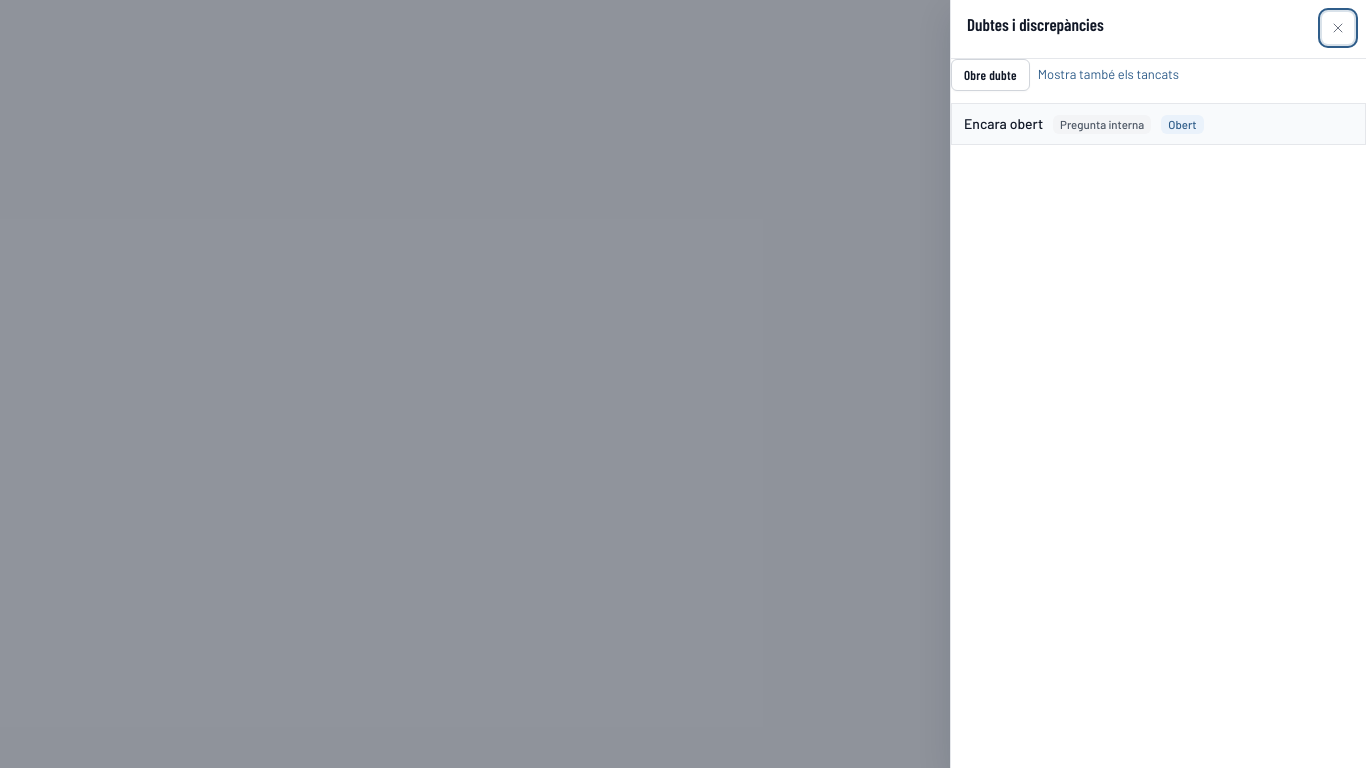
Test: per defecte només ensenya els oberts
Expected: the button "Encara obert" is shown, [964,114,1043,134]
Expected: the text "Ja resolt" is not shown
Click the button "Mostra també els tancats".
click(1108, 75)  # box [1038,65,1179,85]
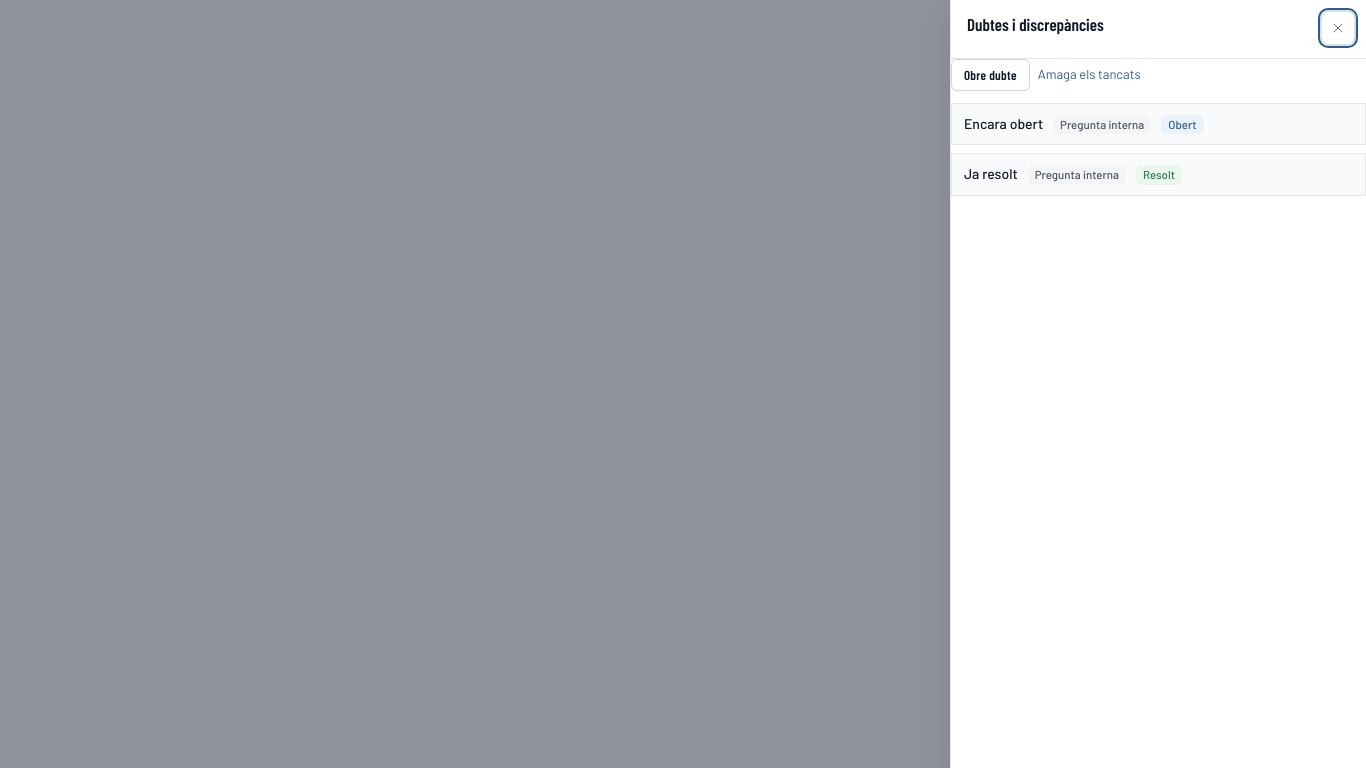
Expected: the button "Ja resolt" is shown, [964,164,1018,184]
